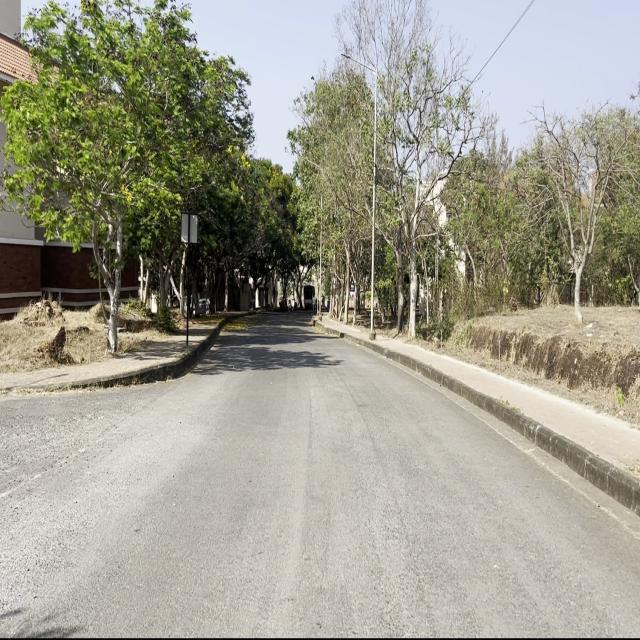Road: (3, 317, 637, 633)
